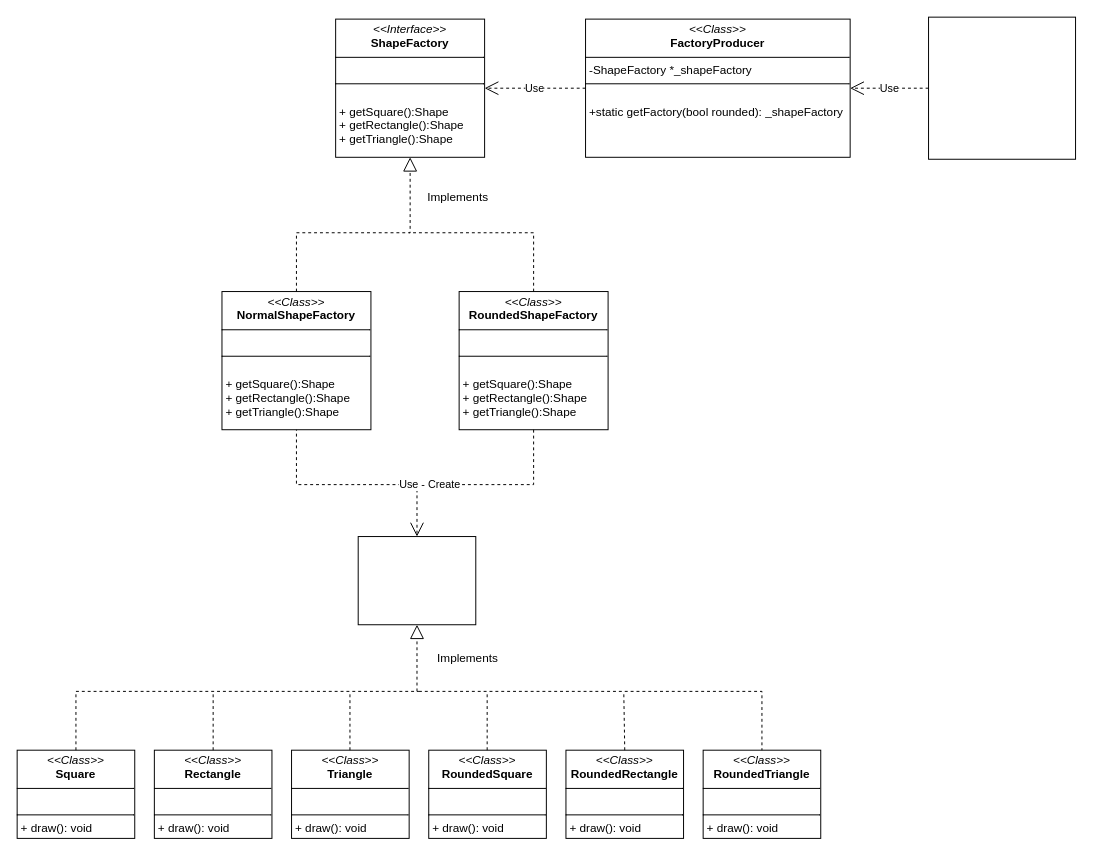
The diagram is 1093 pixels wide and 856 high, and some of its shapes have lost their labels. The box of each missing label's shape, as (x1, y1, x2, y2) in pixels:
<<Class>> ShapeFactoryClient + main():void: (928, 16, 1076, 159)
<<Interface>> Shape + draw(): void: (357, 536, 476, 625)
